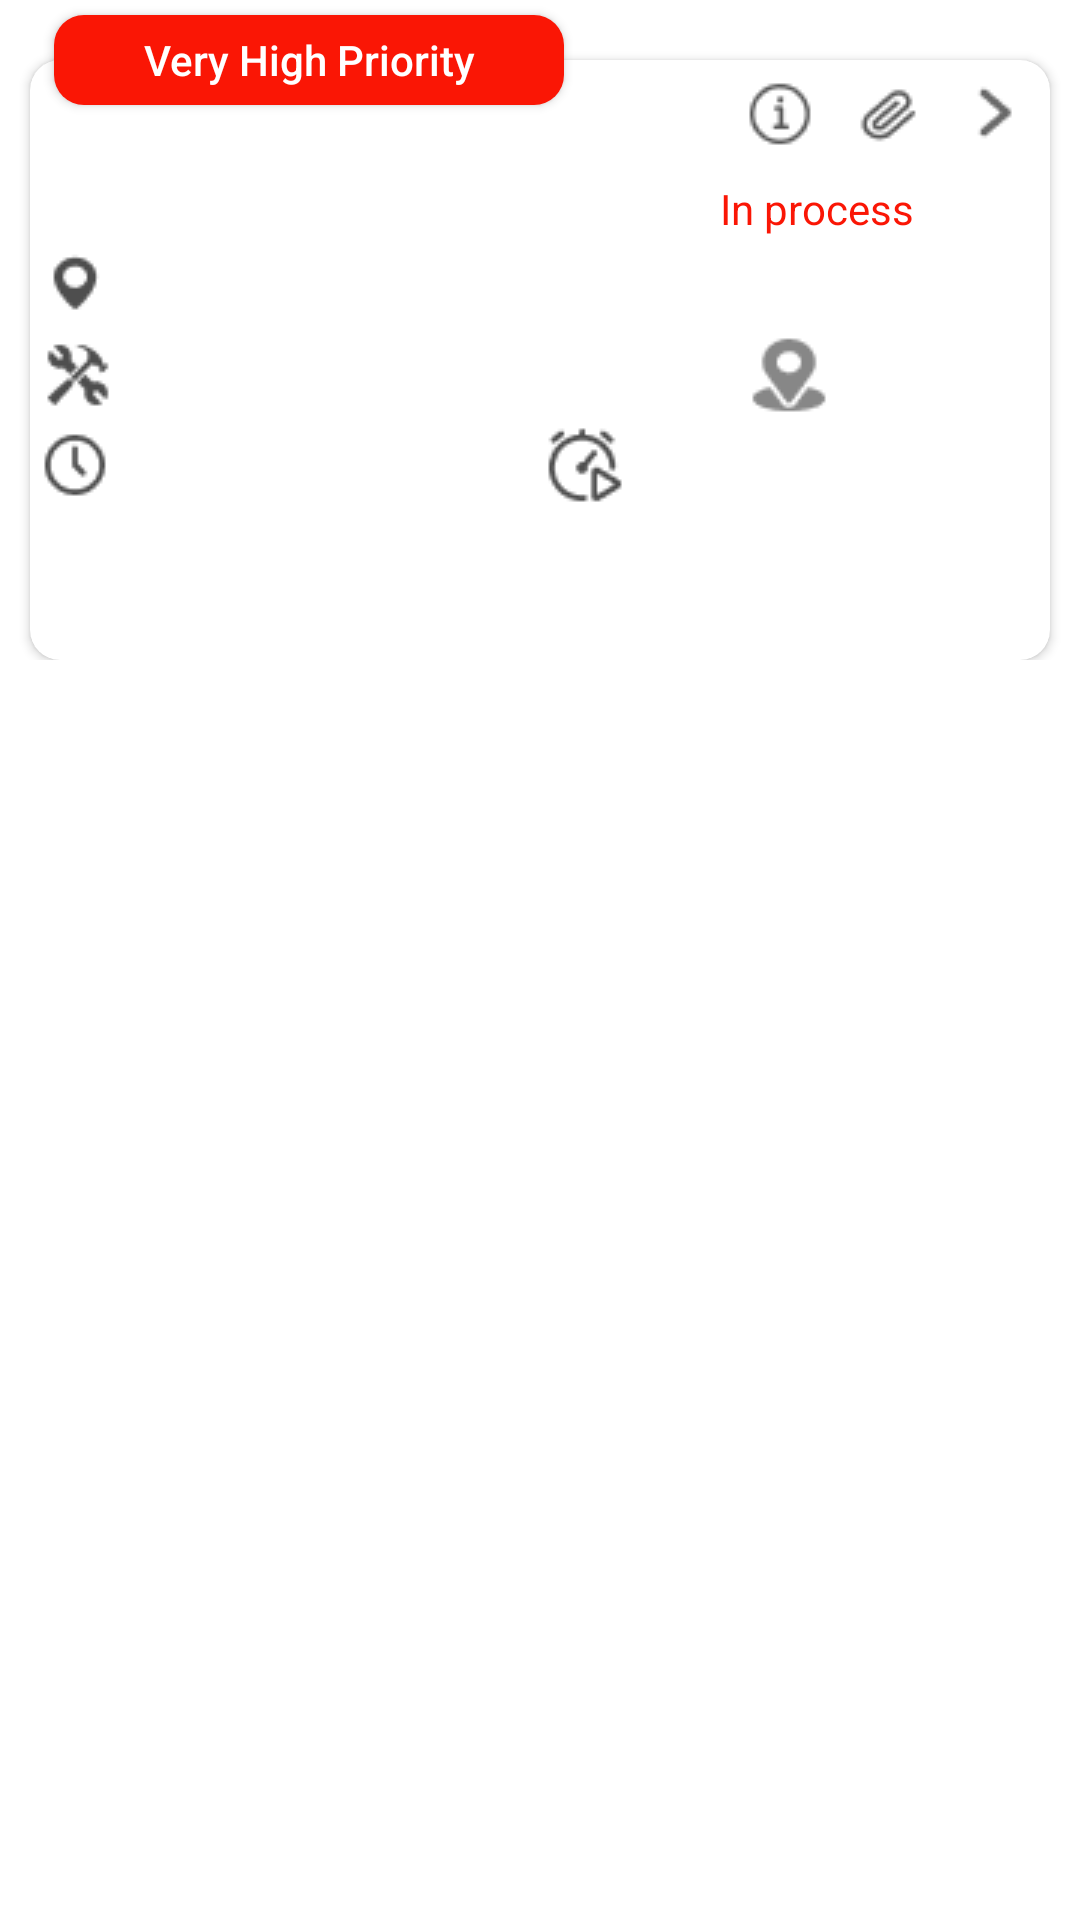

Icons on this 1080×1920 Android screen, each with its box as detection(x1, y1, x2, y2):
atta chment: detection(860, 89, 916, 141)
equi pment: detection(47, 344, 109, 406)
func location: detection(752, 338, 826, 412)
infor mation: detection(749, 83, 811, 145)
loc ation: detection(53, 257, 97, 310)
ne xt: detection(979, 88, 1012, 137)
start date: detection(44, 434, 106, 496)
